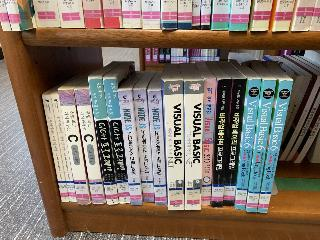book-spine: (255, 79, 293, 214), (244, 78, 276, 213), (89, 76, 119, 206), (58, 88, 90, 206), (74, 88, 106, 205), (233, 77, 261, 210), (103, 76, 131, 204), (220, 77, 246, 207), (42, 94, 69, 203), (209, 78, 231, 208), (51, 94, 77, 203), (118, 89, 142, 206), (184, 80, 204, 210), (133, 89, 155, 204), (165, 80, 184, 210), (199, 78, 216, 206), (149, 90, 167, 205)
